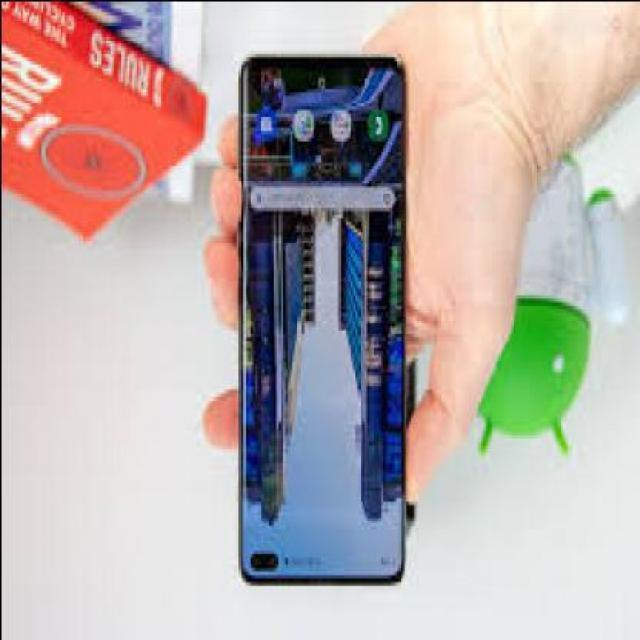phone: (237, 49, 408, 587)
